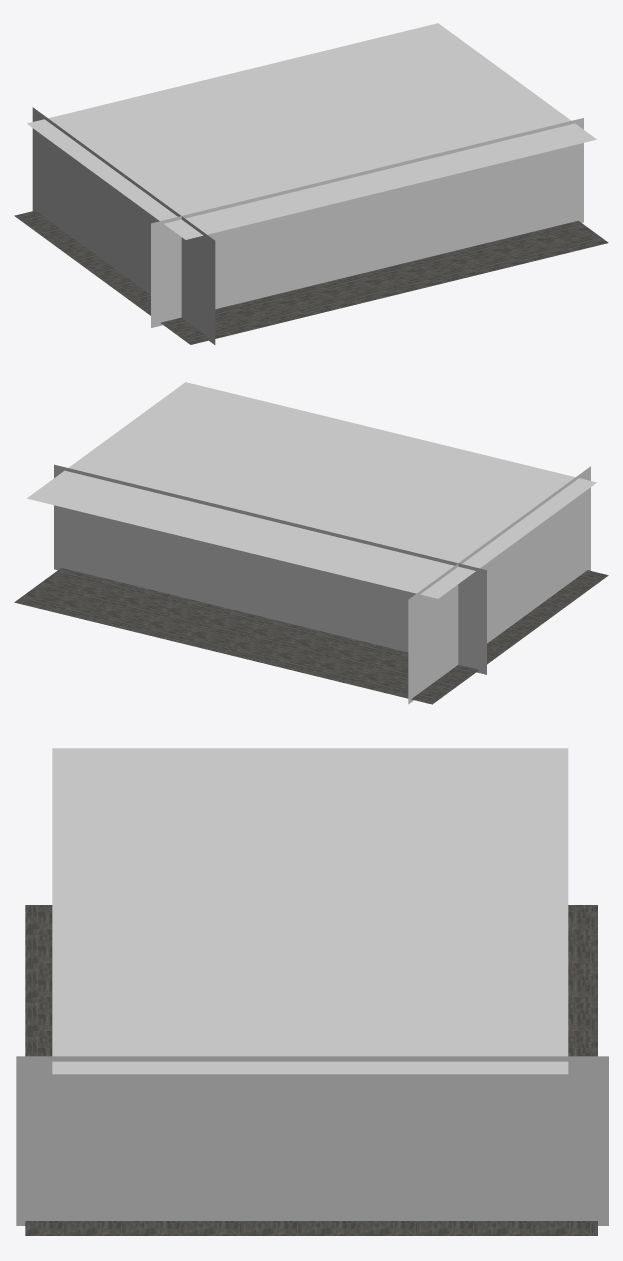
Rendered from Intro-Office.glb.
The picture shows the model from 3 angles, top to bottom: view 1: azimuth 30°, elevation 25°; view 2: azimuth 150°, elevation 25°; view 3: azimuth 270°, elevation 25°; orthographic projection. The views are drawn at different scales.
Visible parts, largest first — view 1: Plane.001, Plane.003, Plane, Plane.004; view 2: Plane.001, Plane.002, Plane, Plane.004; view 3: Plane.001, Plane.005, Plane.
Part boxes in pixels (box(x1,y1,x2,y2)): Plane.001: box(27, 23, 596, 239); Plane.003: box(151, 118, 583, 327); Plane: box(14, 210, 608, 344); Plane.004: box(32, 107, 215, 344); Plane.001: box(27, 382, 596, 598); Plane.002: box(54, 464, 486, 674); Plane: box(14, 568, 608, 704); Plane.004: box(408, 466, 590, 704); Plane.001: box(52, 748, 568, 1074); Plane.005: box(16, 1056, 608, 1225); Plane: box(25, 905, 597, 1235).
Size of the model in its own units: 26.52 by 6.11 by 19.39.
Materials: 18 (8 with a texture image).
